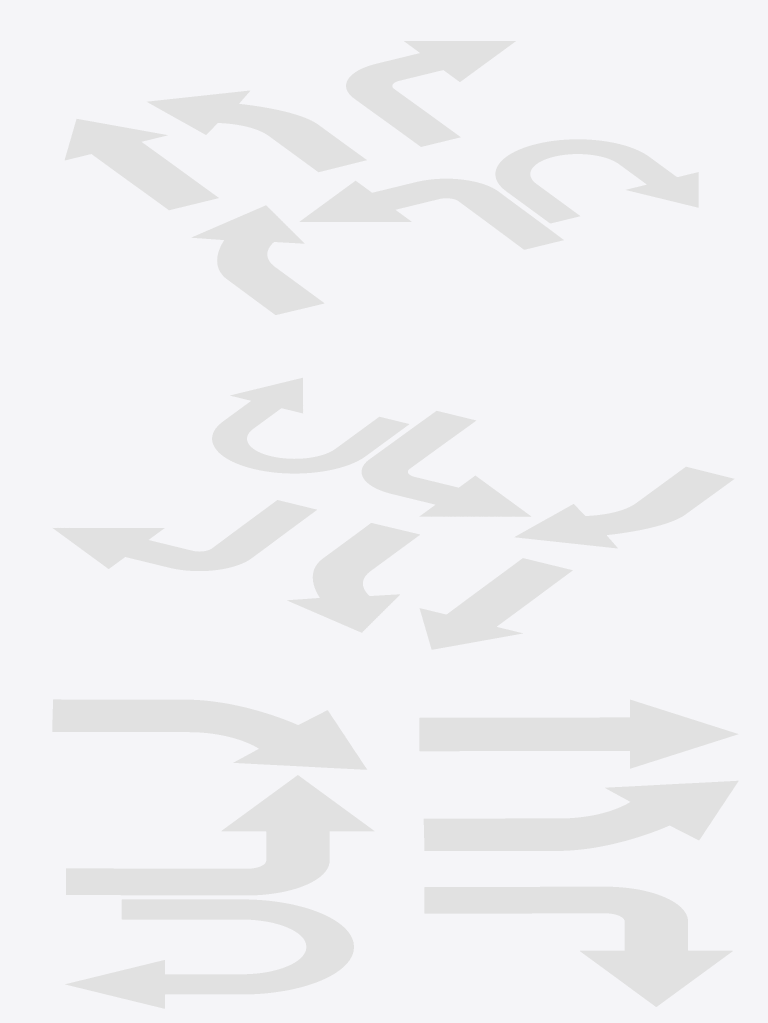
The model's file is SF_RoadArrows.fbx.
3 renders of one model, top to bottom at view 1: azimuth 30°, elevation 25°; view 2: azimuth 150°, elevation 25°; view 3: azimuth 270°, elevation 25°, orthographic. The views are drawn at different scales.
Parts seen in each view (by area): view 1: pPlane2, pPlane6, pPlane1, pPlane5, pPlane3, pPlane4; view 2: pPlane2, pPlane6, pPlane1, pPlane3, pPlane5, pPlane4; view 3: pPlane2, pPlane6, pPlane1, pPlane3, pPlane5, pPlane4.
Part boxes in pixels (box(x1,y1,x2,y2)): pPlane2: box(299, 178, 563, 249); pPlane6: box(346, 41, 515, 146); pPlane1: box(495, 139, 698, 223); pPlane5: box(147, 90, 366, 172); pPlane3: box(191, 205, 324, 314); pPlane4: box(64, 119, 218, 210); pPlane2: box(361, 411, 530, 516); pPlane6: box(53, 500, 316, 570); pPlane1: box(212, 377, 408, 473); pPlane3: box(514, 466, 734, 548); pPlane5: box(287, 523, 419, 632); pPlane4: box(419, 558, 572, 649); pPlane2: box(66, 775, 374, 895); pPlane6: box(424, 886, 732, 1006); pPlane1: box(65, 899, 353, 1008); pPlane3: box(52, 699, 366, 769); pPlane5: box(423, 780, 738, 850); pPlane4: box(419, 699, 738, 768).
Bounding box in the file's own units: 100 × 5.01e-06 × 100.
Materials: 1 (1 with a texture image).
